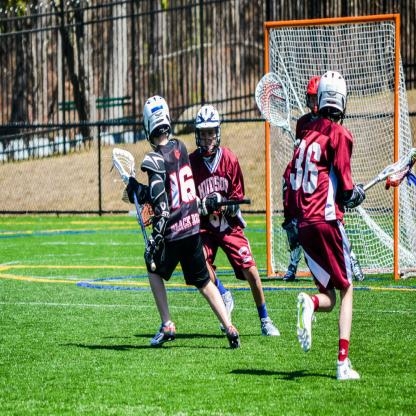Helmet: (313, 73, 347, 127), (142, 96, 173, 146), (194, 105, 221, 160), (307, 79, 321, 122)
